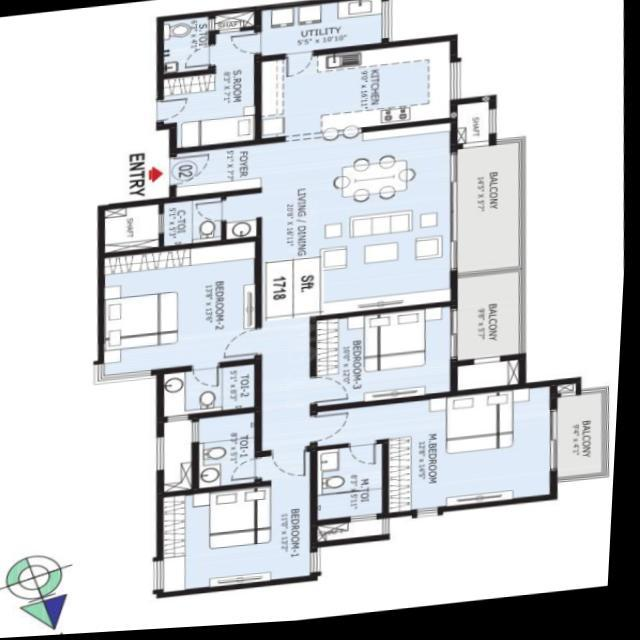Balcony-Sitout: (460, 149, 521, 276), (460, 278, 522, 364), (563, 400, 606, 482)
Bedroom: (112, 247, 256, 371), (170, 489, 314, 591), (320, 312, 453, 408), (178, 74, 255, 147)
Bedroom with Toilet: (321, 391, 558, 525)
Dining: (331, 154, 423, 210)
Enterance-Foyer: (142, 146, 262, 200)
Kitchen: (263, 47, 451, 140)
Living: (268, 204, 453, 324)
Toilet: (326, 449, 388, 521), (169, 367, 257, 417), (204, 417, 259, 489), (169, 200, 223, 249), (162, 20, 206, 73)
Utility: (263, 1, 379, 57)
